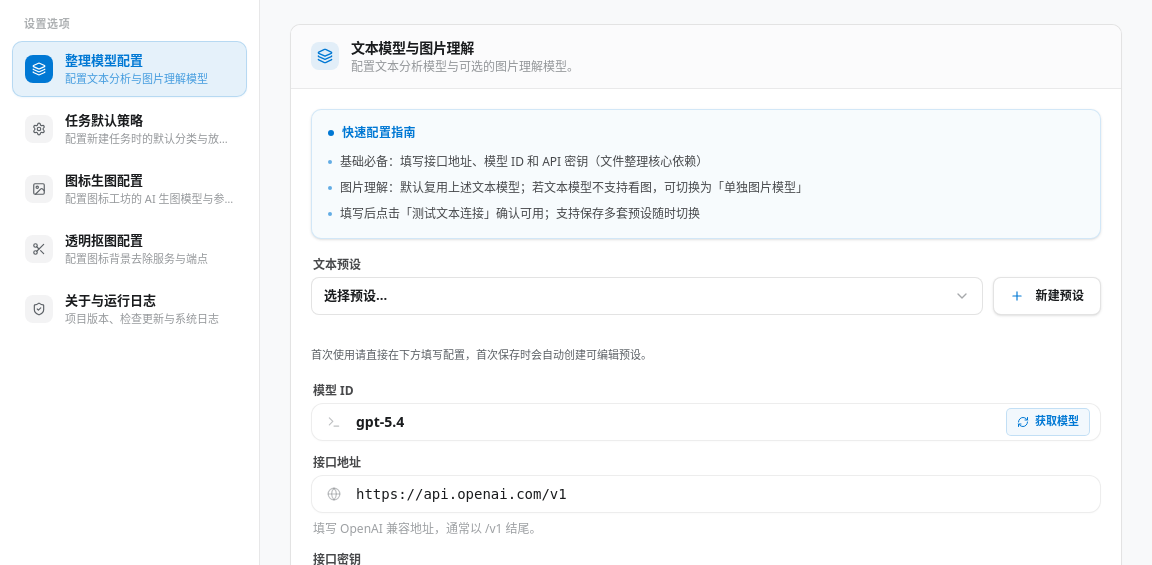
it: SettingsPage preset flow › shows launch placement default controls in the launch settings tab
This screenshot has width=1152, height=565.
Click the button "任务默认策略 配置新建任务时的默认分类与放置规则" at {"x": 130, "y": 128}, box [12,100,247,156]
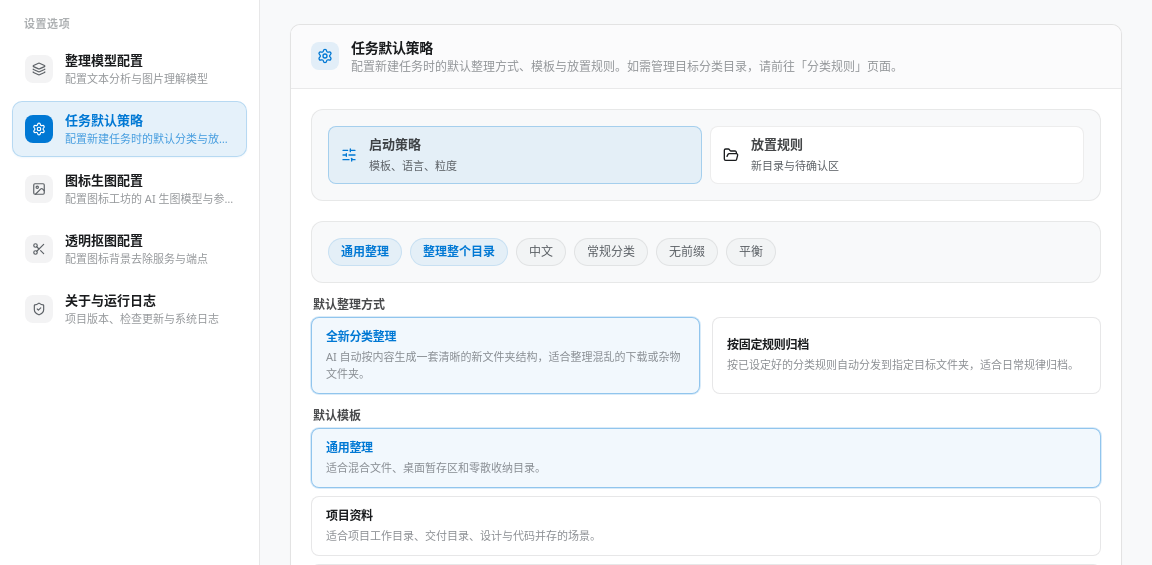
Result: the button "放置规则 新目录与待确认区" is shown
Click the button "放置规则 新目录与待确认区" at {"x": 777, "y": 144}, box [710,126,1084,184]
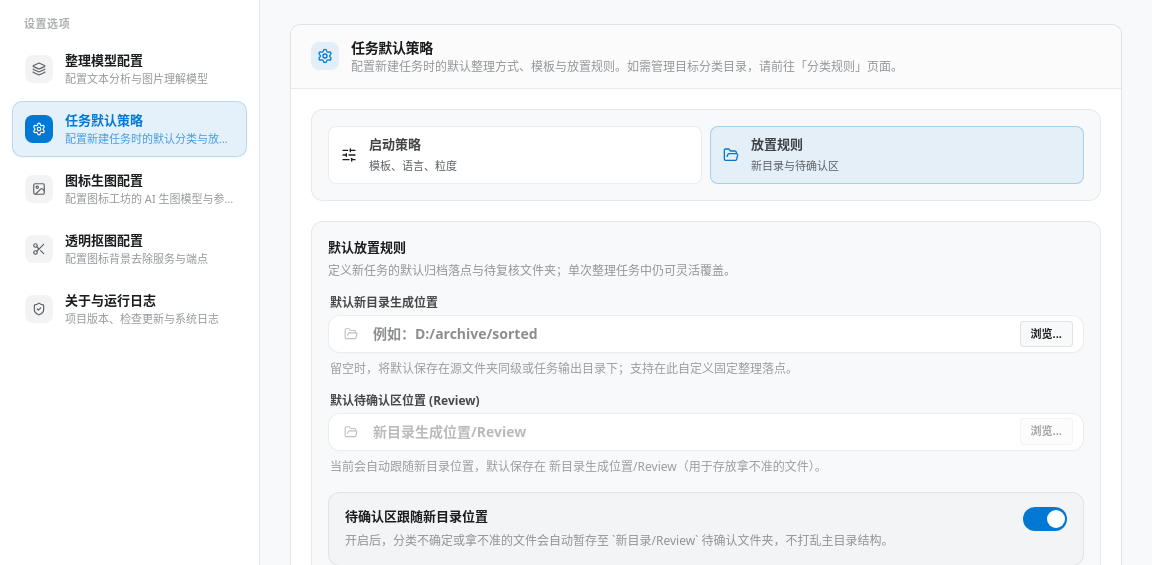
Result: the heading "默认放置规则" is shown at [328,238,406,256]
Result: the field with placeholder "例如：D:/archive/sorted" is shown at [373,316,1002,352]
Result: the heading "待确认区跟随新目录位置" is shown at [345,507,488,525]
